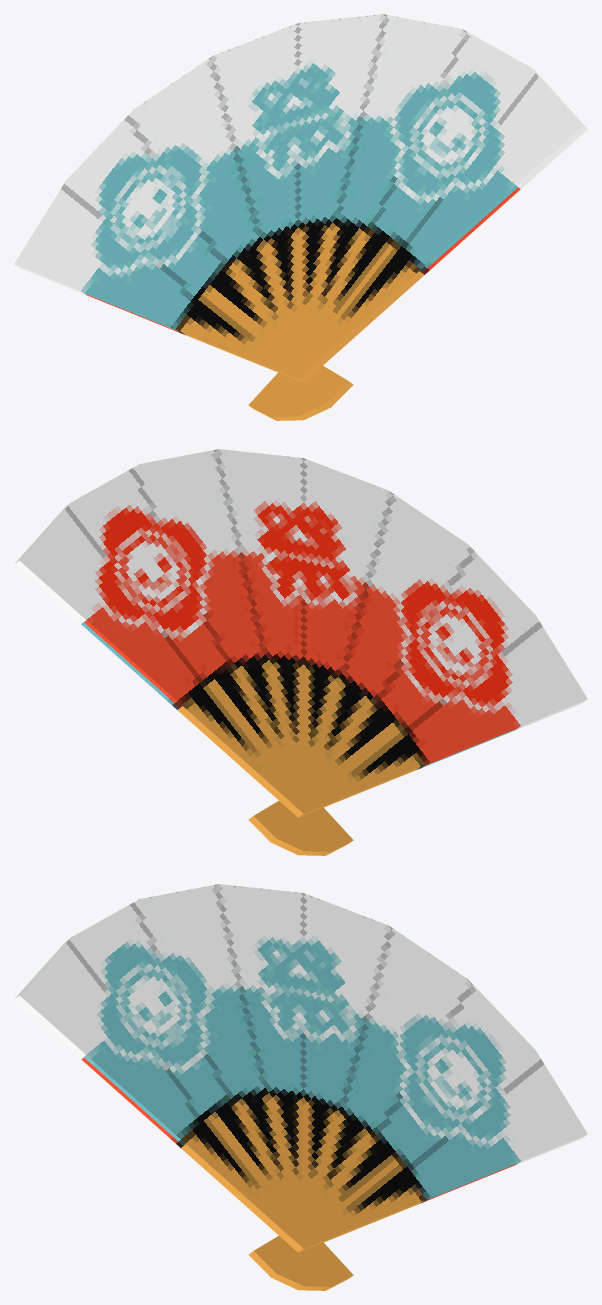
File: ps2_save-icons_taikowaiwaihappy.glb
3 views of the same model, one above another, from view 1: azimuth 30°, elevation 25°; view 2: azimuth 150°, elevation 25°; view 3: azimuth 330°, elevation 25° (orthographic).
Visible parts, largest first — view 1: icon.ico; view 2: icon.ico; view 3: icon.ico.
Part boxes in pixels (x1,y1,x2,y2): icon.ico: (14,14,587,420); icon.ico: (14,449,587,855); icon.ico: (14,884,587,1290).
Size of the model in its own units: 5 by 3.3 by 0.0835.
Materials: 1 (1 with a texture image).
